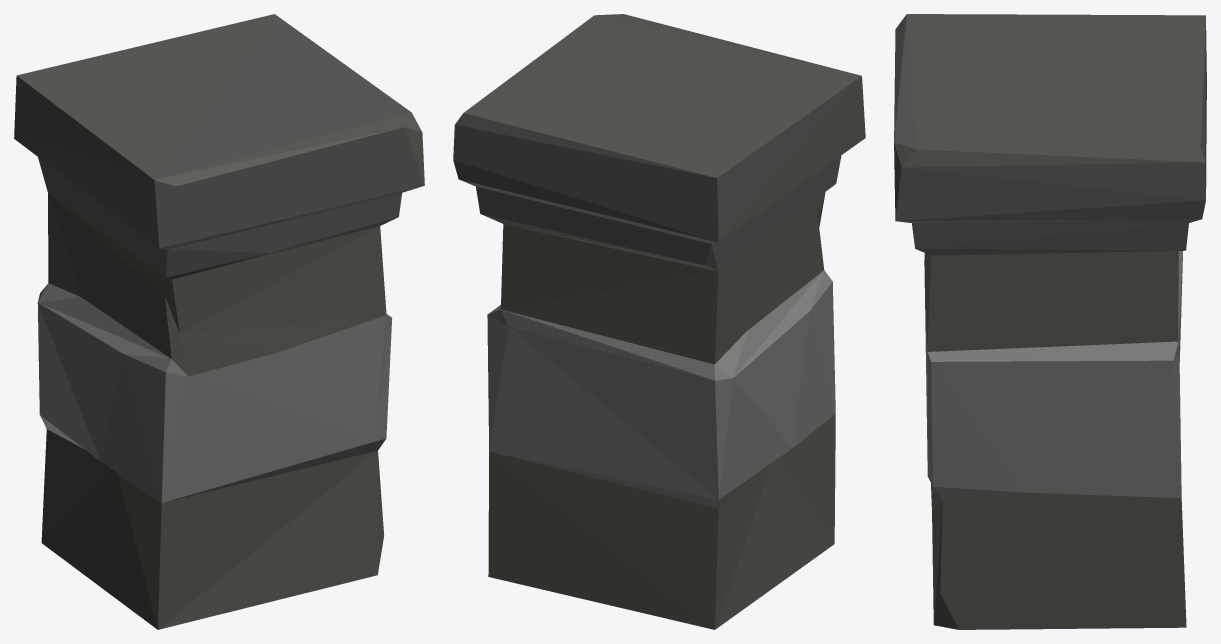
File: MDungeon_PillarSmall_02.FBX
3 renders of one model, left to right at view 1: azimuth 30°, elevation 25°; view 2: azimuth 150°, elevation 25°; view 3: azimuth 270°, elevation 25°, orthographic. The views are drawn at different scales.
Parts seen in each view (by area): view 1: MDungeon_PillarSmall_02_LOD0; view 2: MDungeon_PillarSmall_02_LOD0; view 3: MDungeon_PillarSmall_02_LOD0.
Part boxes in pixels (left/top/right/bottom): MDungeon_PillarSmall_02_LOD0: left=14, top=14, right=424, bottom=629; MDungeon_PillarSmall_02_LOD0: left=453, top=14, right=865, bottom=629; MDungeon_PillarSmall_02_LOD0: left=894, top=14, right=1206, bottom=629.
Size of what is drawn, in the model's own units: 1.1 by 1.82 by 1.05.
